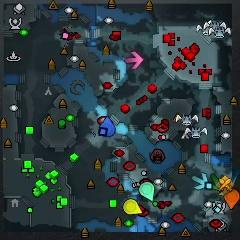Other: (219, 175, 233, 193)
p1: (100, 116, 115, 136)
p2: (139, 182, 155, 201)
p4: (123, 198, 141, 215)
p5: (225, 188, 240, 210)
x1: (125, 51, 144, 69)
x3: (193, 172, 208, 193)
x4: (210, 173, 225, 193)
